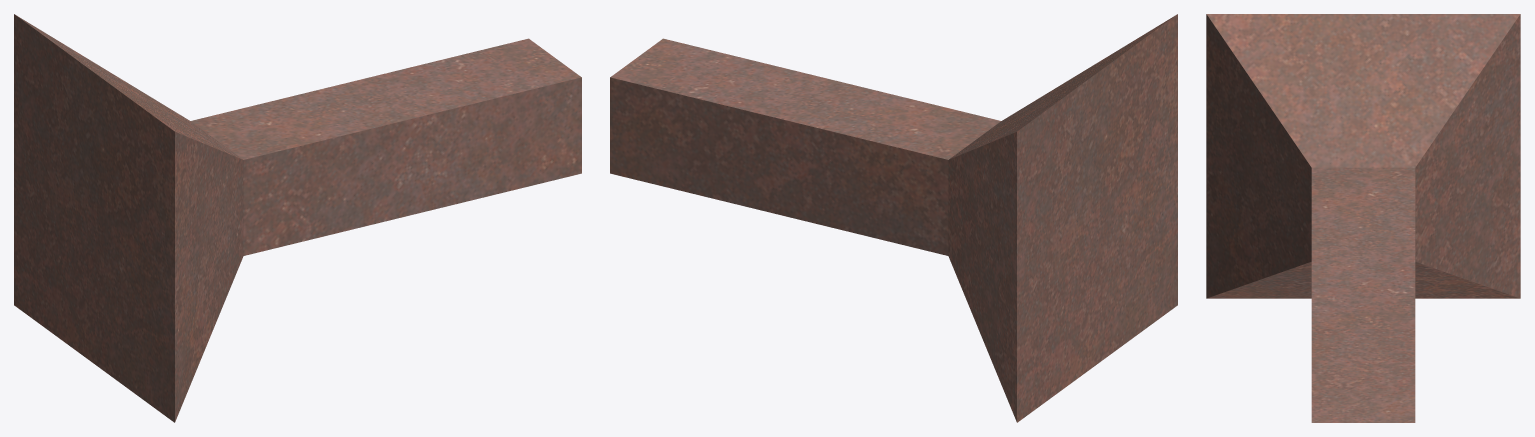
The model's file is Sosten_Metralladora.glb.
The picture shows the model from 3 angles, left to right: view 1: azimuth 30°, elevation 25°; view 2: azimuth 150°, elevation 25°; view 3: azimuth 270°, elevation 25°; orthographic projection. The views are drawn at different scales.
Parts seen in each view (by area): view 1: Cube; view 2: Cube; view 3: Cube.
Part boxes in pixels (x1,y1,x2,y2): Cube: (14,14,581,422); Cube: (610,14,1177,422); Cube: (1206,14,1520,422).
Size of the model in its own units: 0.6673 by 0.4032 by 0.4032.
1 material, 1 textured.
